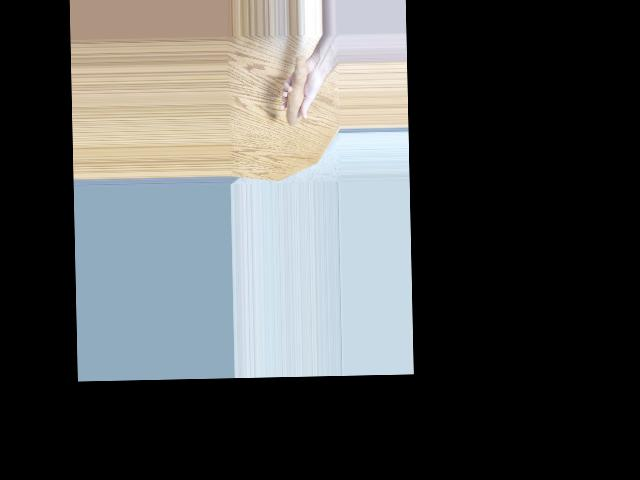sweet_potato: (283, 48, 314, 127)
